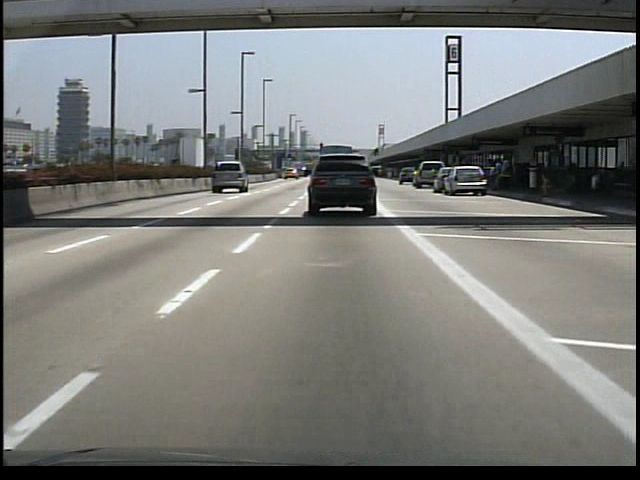person: (497, 153, 518, 193), (487, 159, 501, 193)
